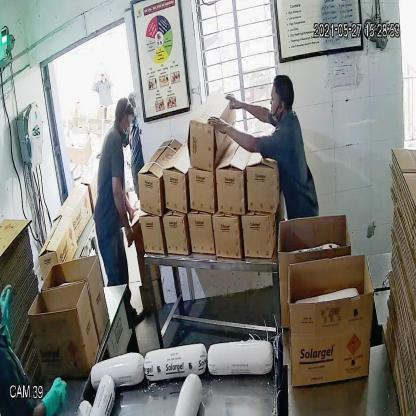no_goggles: (267, 90, 288, 108)
